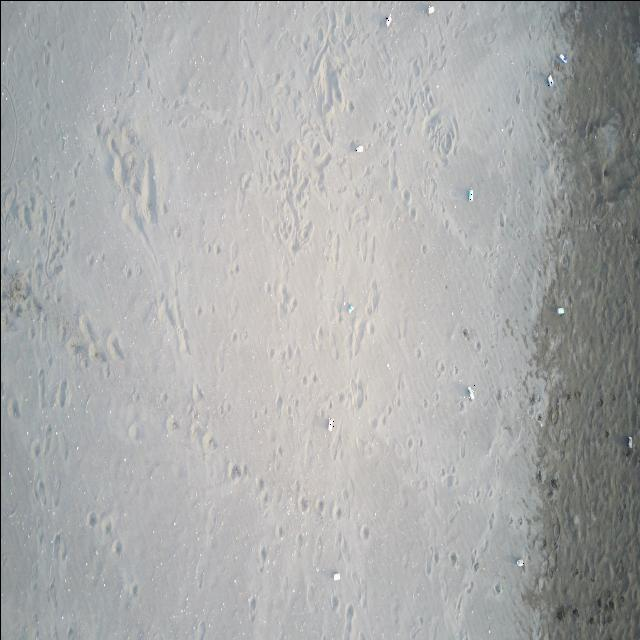Garbage: (557, 54, 567, 63), (515, 557, 524, 567), (327, 419, 333, 431), (384, 16, 391, 26), (467, 387, 472, 400), (332, 572, 340, 580), (556, 307, 564, 315), (627, 435, 632, 447), (467, 188, 472, 200), (355, 144, 363, 151), (547, 74, 552, 85), (346, 303, 352, 312), (427, 4, 432, 13)
